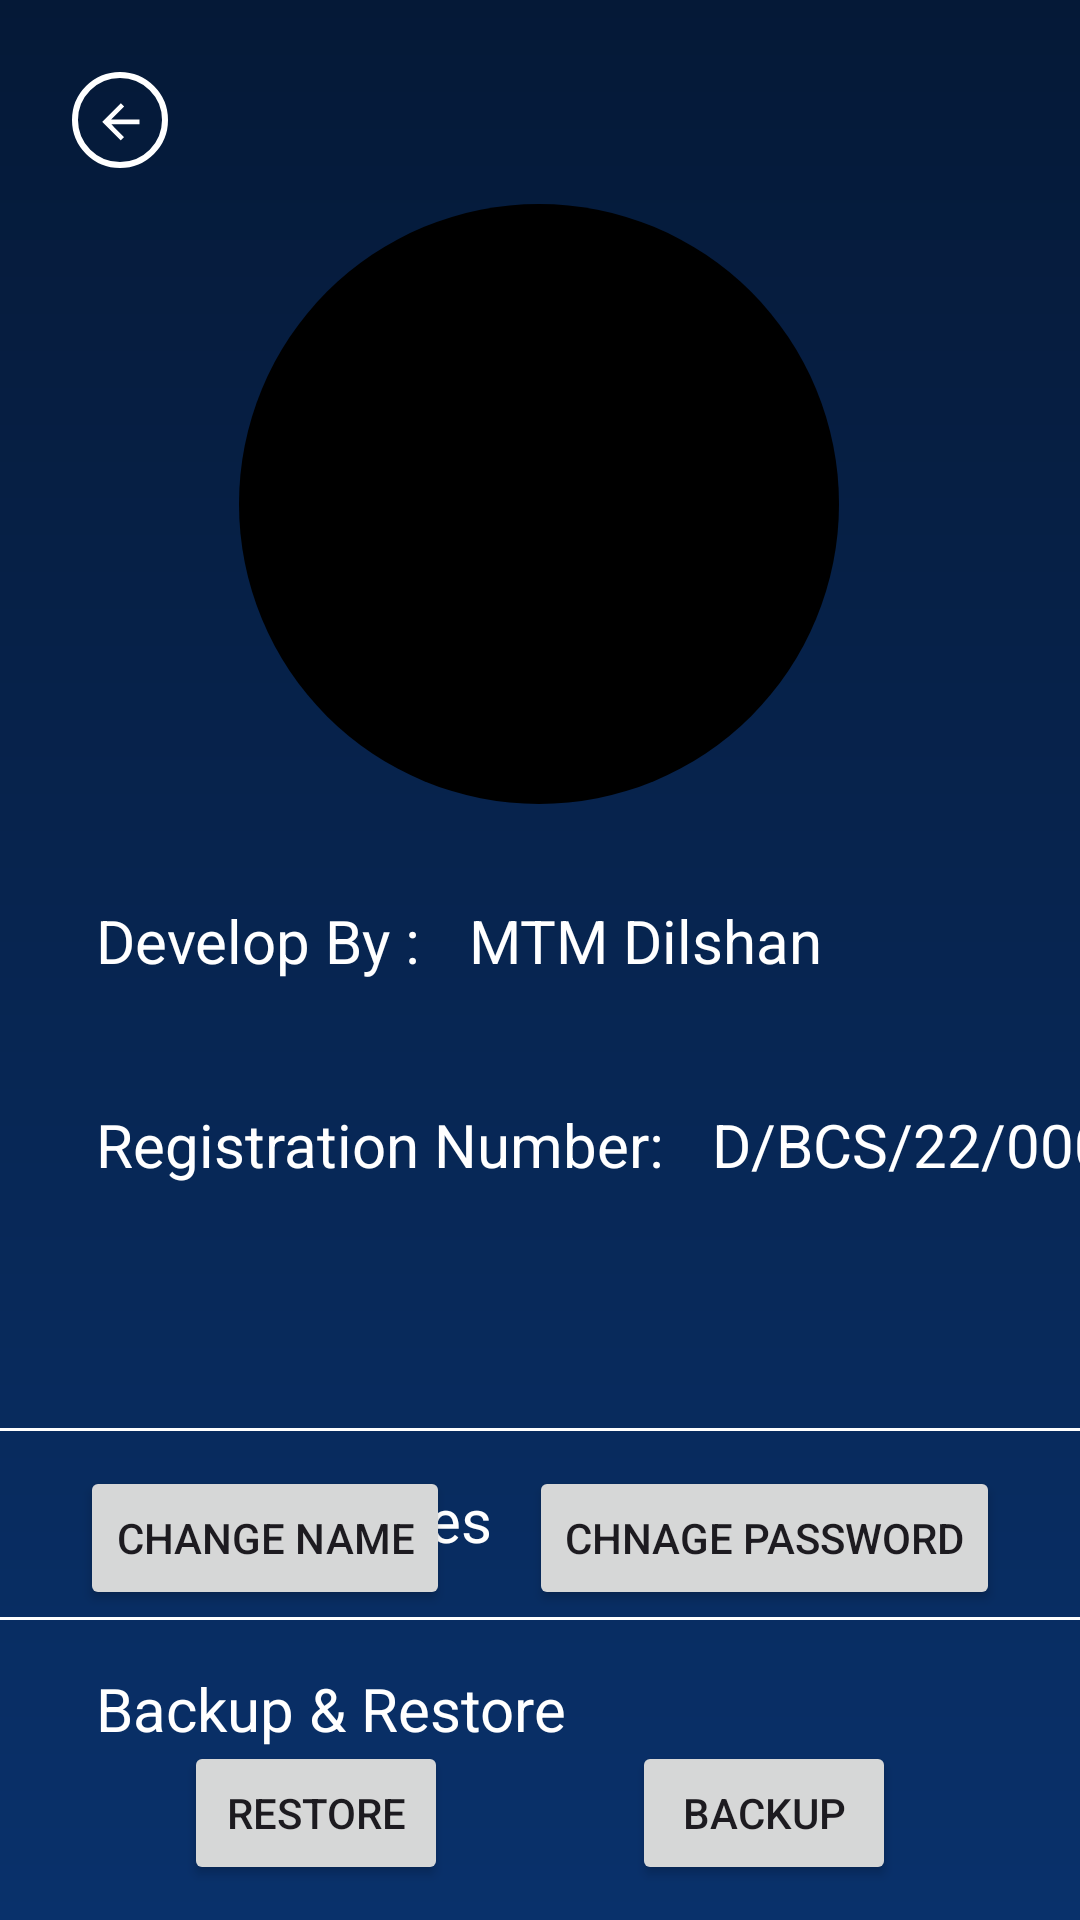

Named icons in this screenshot (1080px x 1920px) and their centers, point (x, y):
back: point (120, 120)
